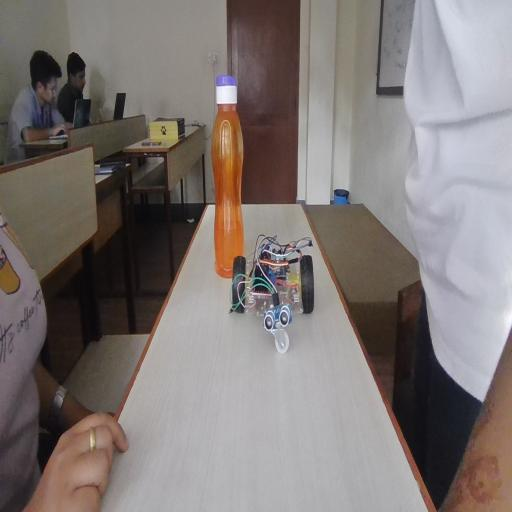Bottle: (209, 76, 246, 262)
car: (241, 241, 312, 334)
